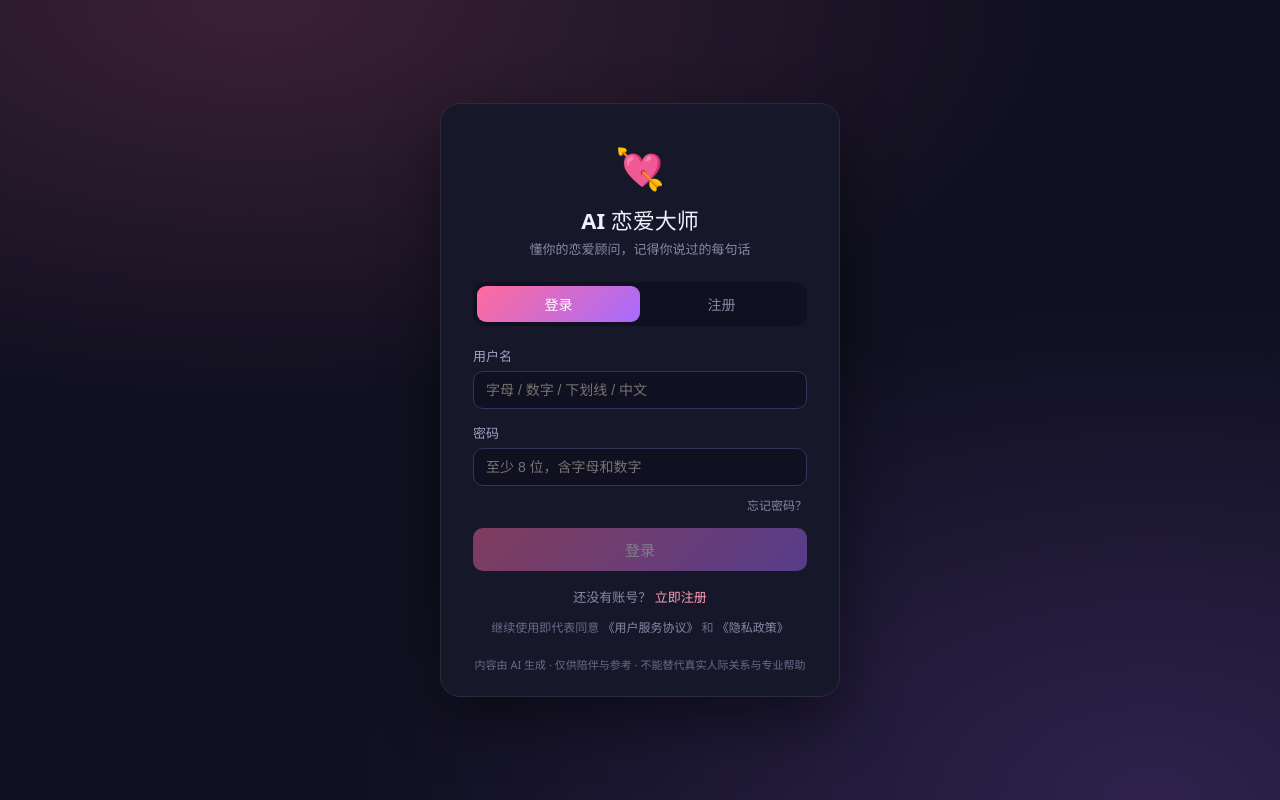
Test: LoginView › 找回密码:发送验证码、重置成功后回到登录
Click the link "忘记密码？".
click(777, 506)  # box [747,497,807,514]
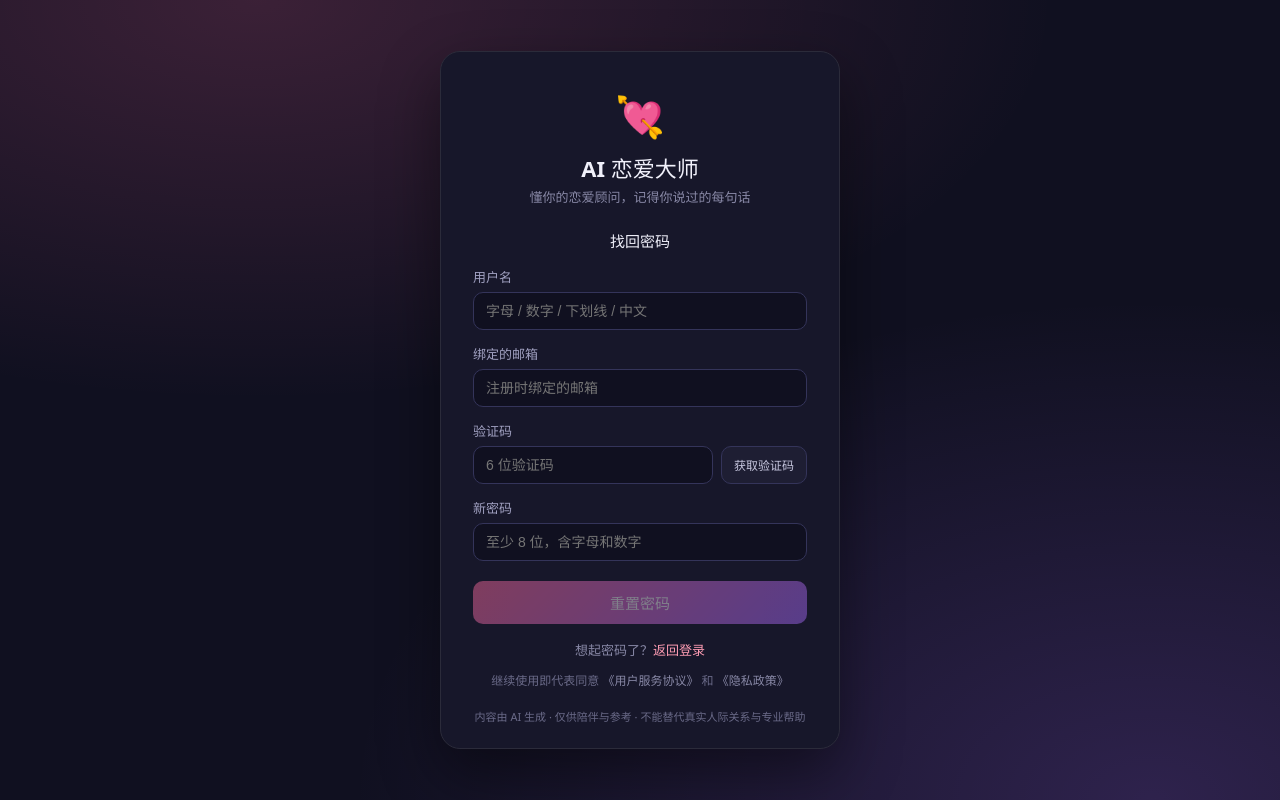
Result: the text "找回密码" is shown at [610,231,670,251]
Type "alice" into the field labelled "用户名".
click(640, 311); type("alice")  # box [473,292,807,330]
Type "a@b.dev" into the field labelled "绑定的邮箱".
click(640, 388); type("a@b.dev")  # box [473,369,807,407]
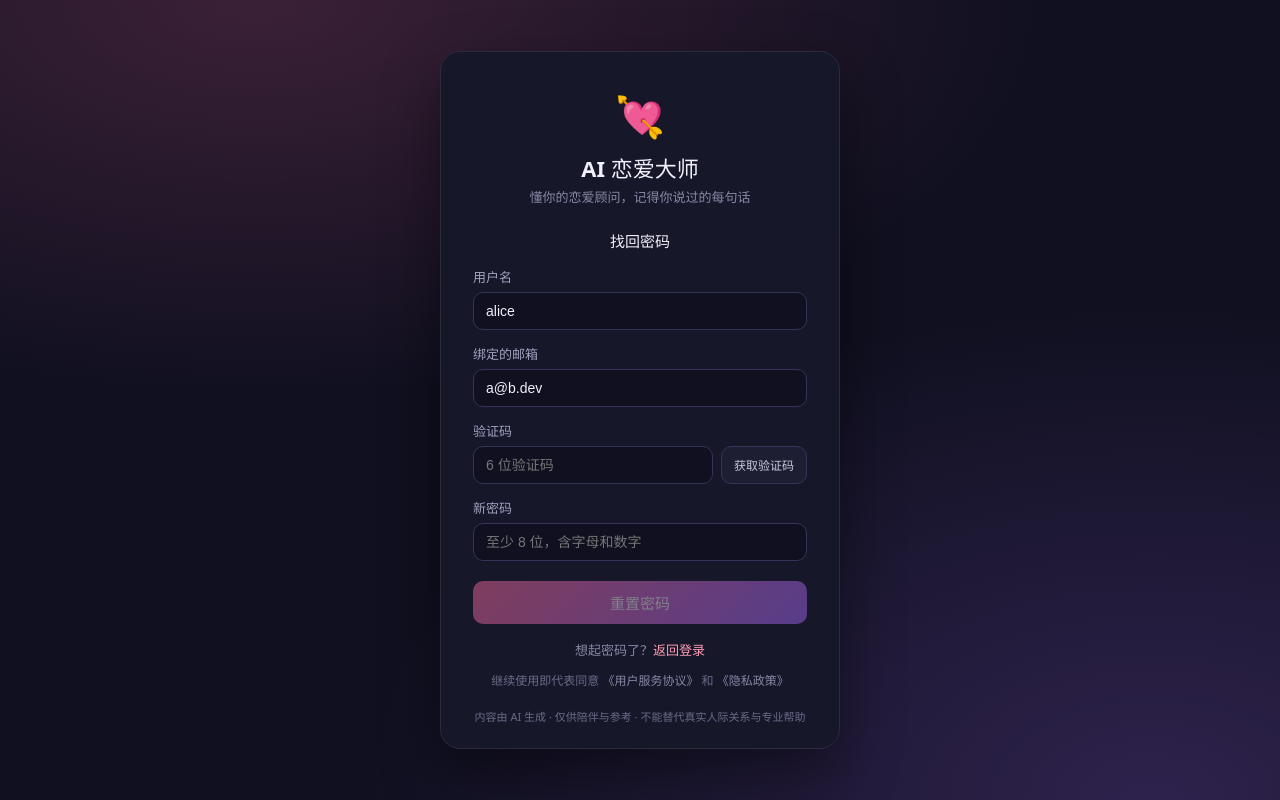
Click the button with class "code-btn".
click(764, 465)  # box [721,446,807,484]
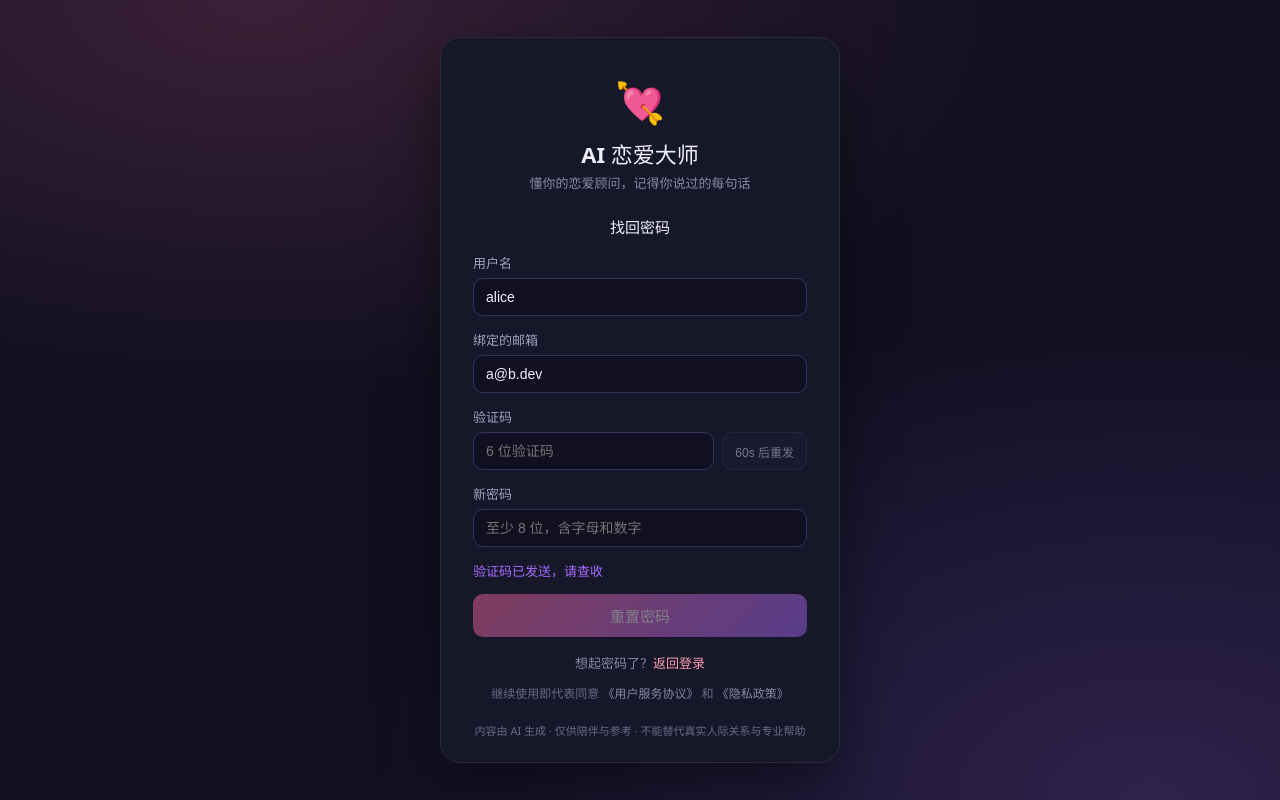
Result: the text "验证码已发送" is shown at [473,562,603,580]
Type "123456" into the field labelled "验证码 60s 后重发".
click(594, 451); type("123456")  # box [473,432,714,470]
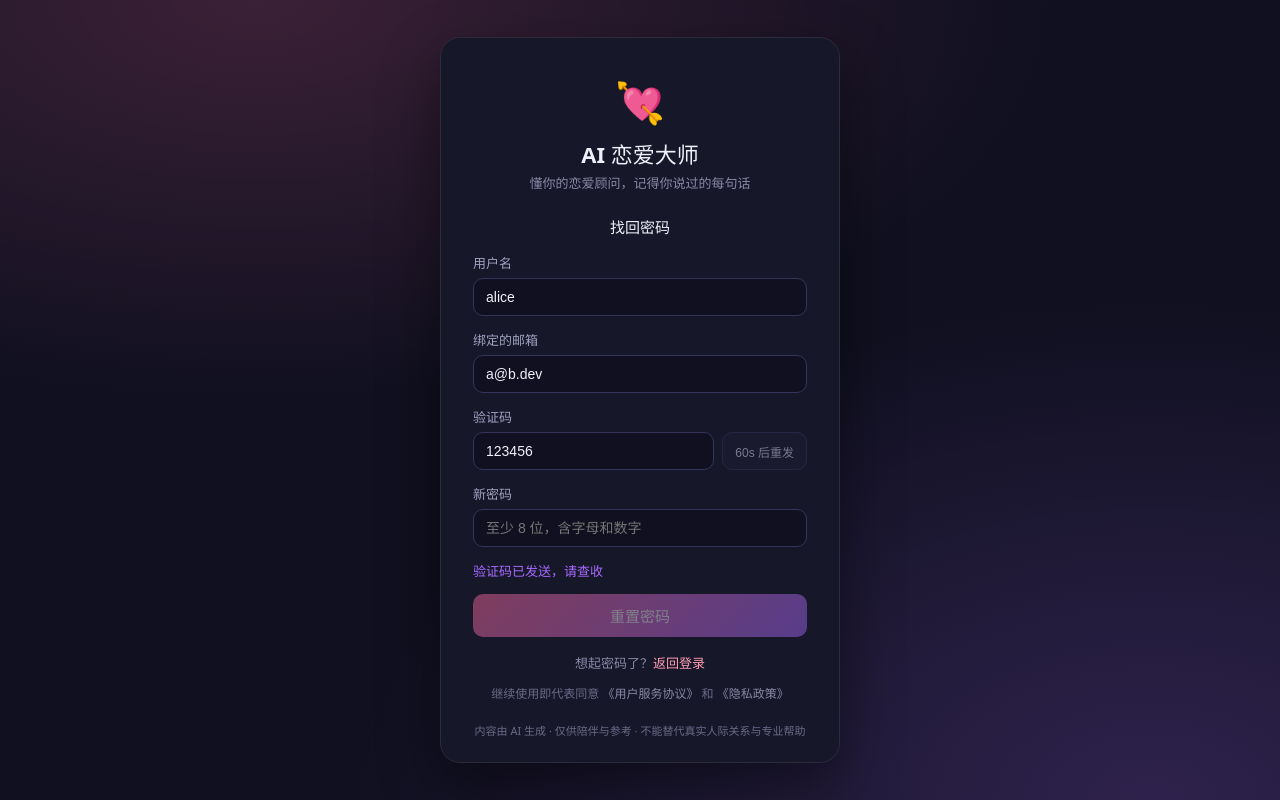
Type "NewPass123" into the password field labelled "新密码".
click(640, 528); type("NewPass123")  # box [473,509,807,547]
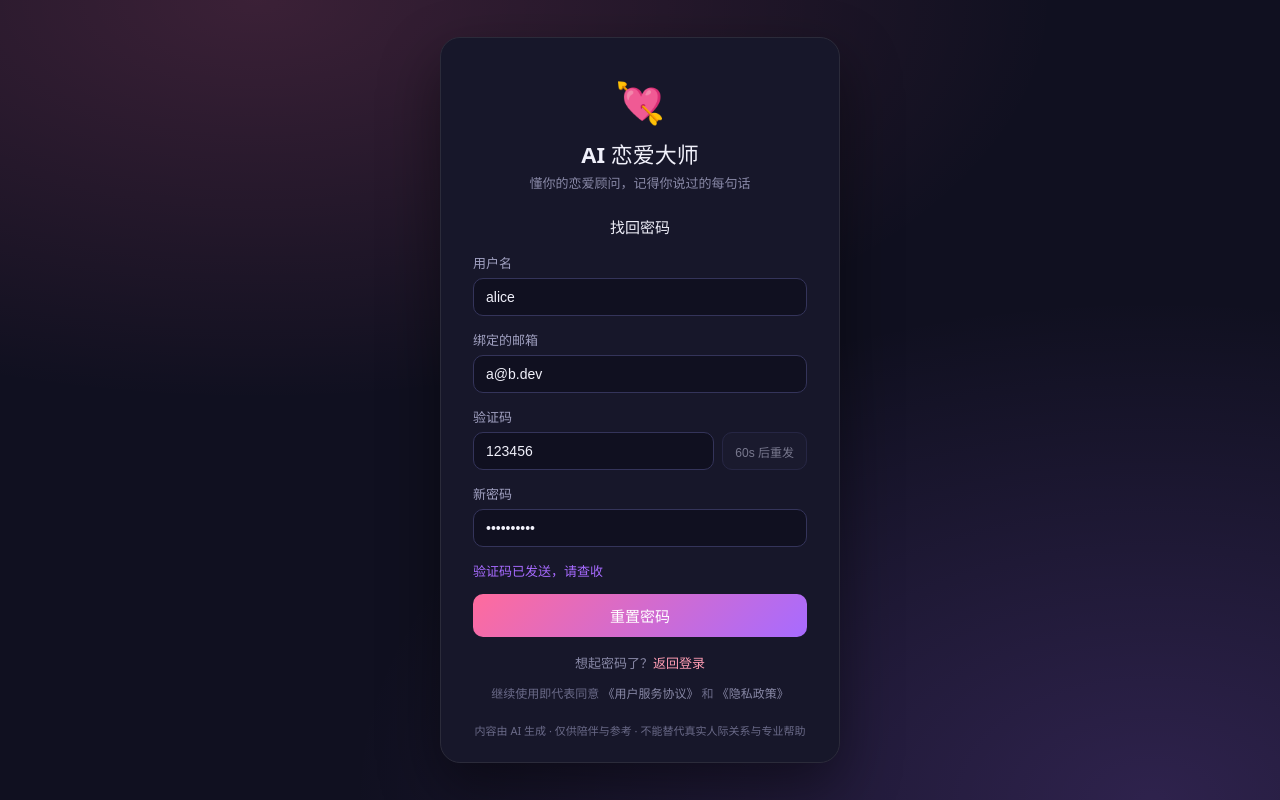
Submit the form, box [473,253,807,637]
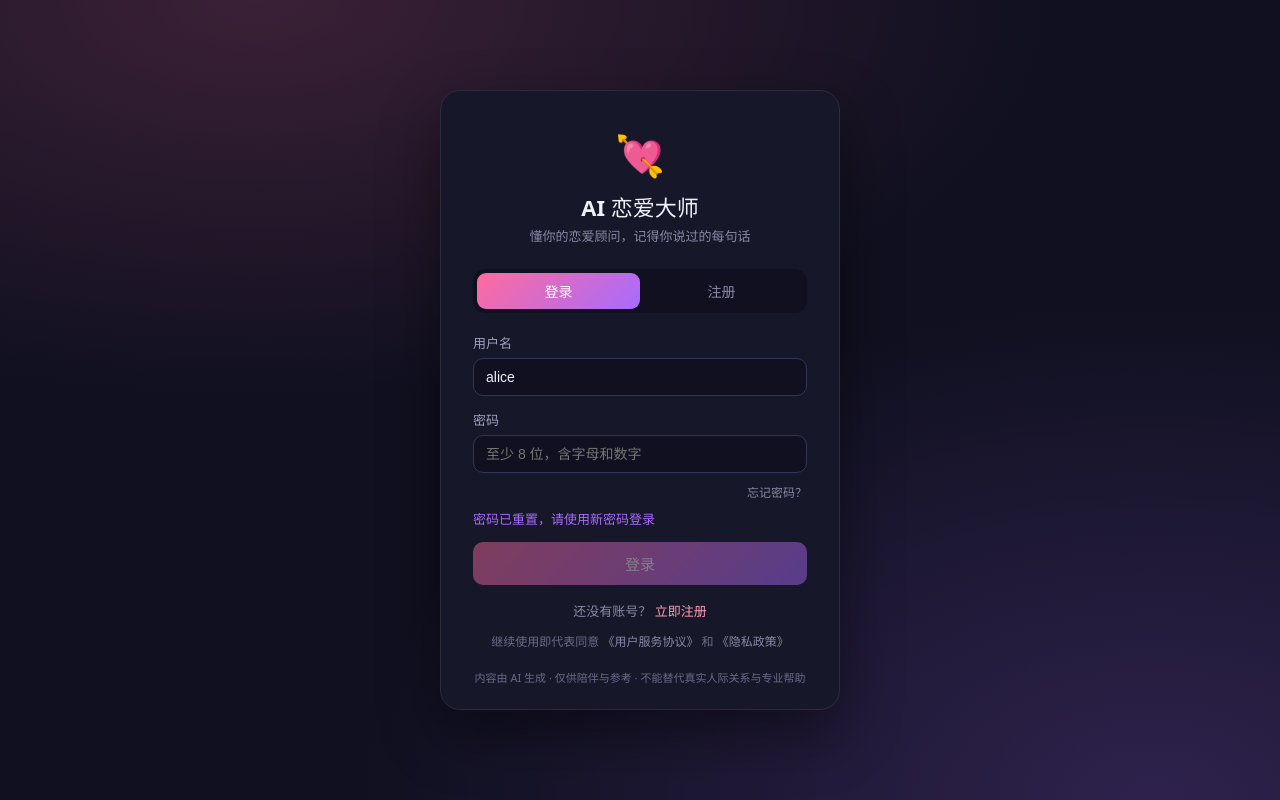
Result: the element with class "mode-tabs" is shown at [473,269,807,313]
